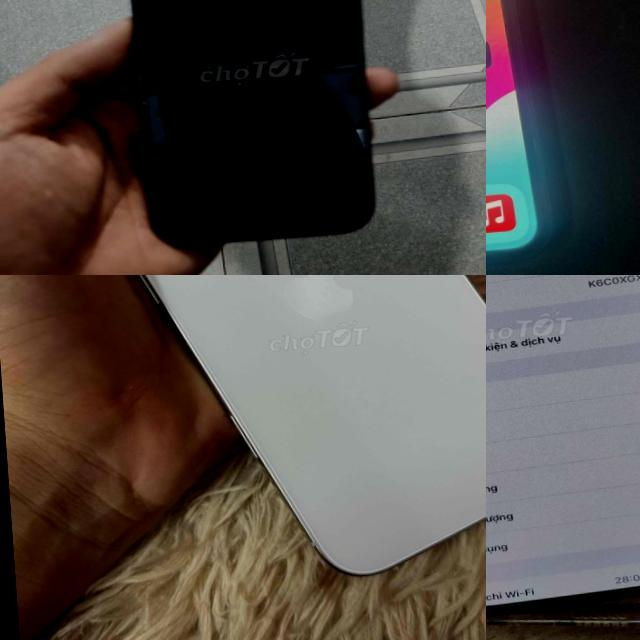gen_14: (106, 0, 399, 255), (486, 275, 640, 623)
gen_16: (67, 275, 486, 596)
gen_x_xs: (486, 0, 558, 275)
